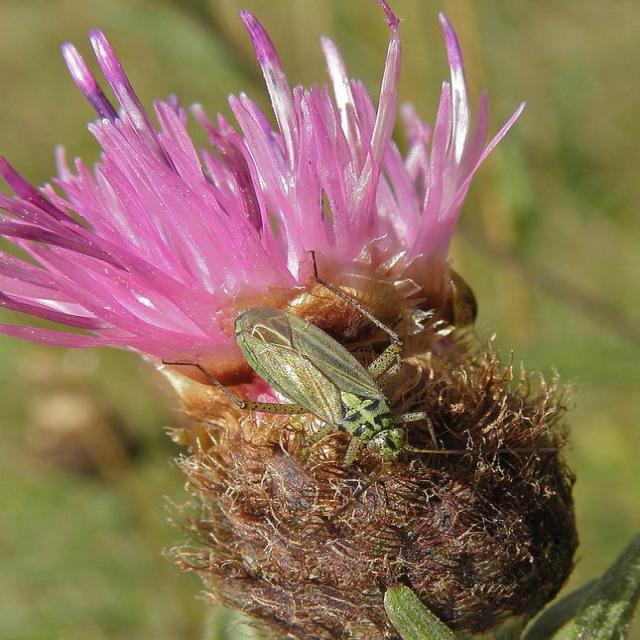Miridae-Adult-: (172, 258, 472, 478)
